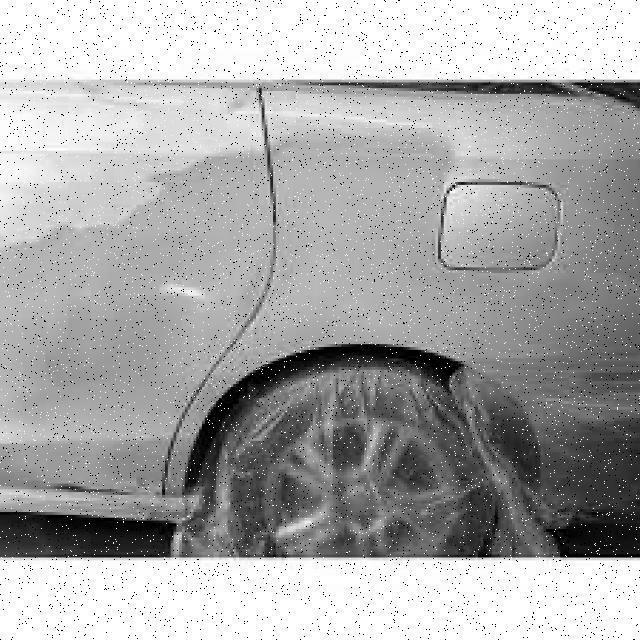quaterpanel-dent: (253, 82, 637, 514)
